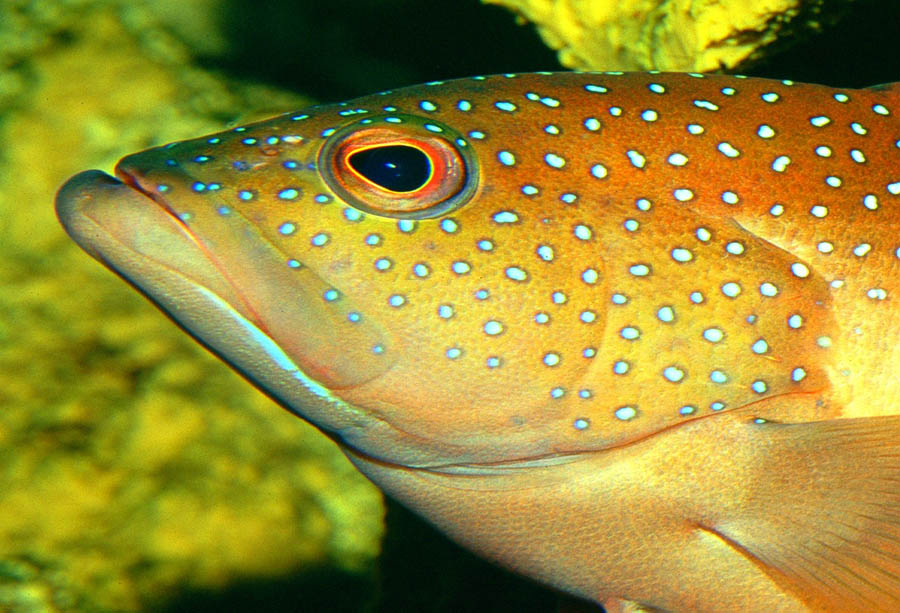Cephalopholis_fulvaw: (30, 38, 900, 600)
